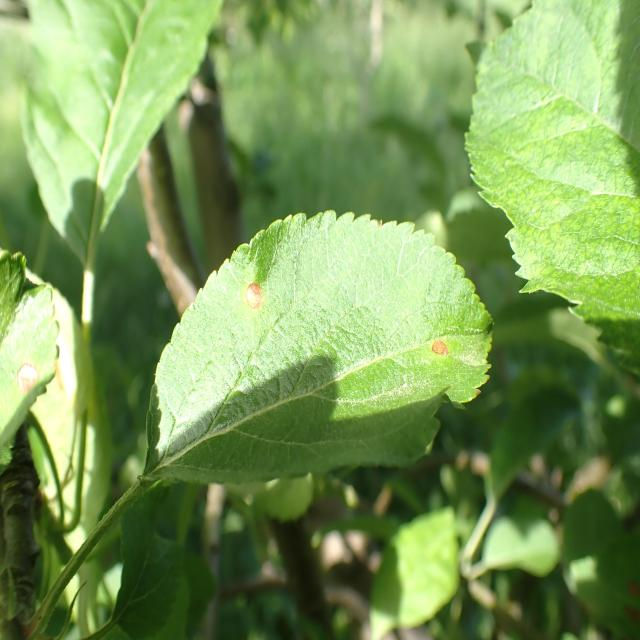Black Rot: (14, 322, 49, 430), (238, 256, 268, 340), (420, 314, 453, 376)
